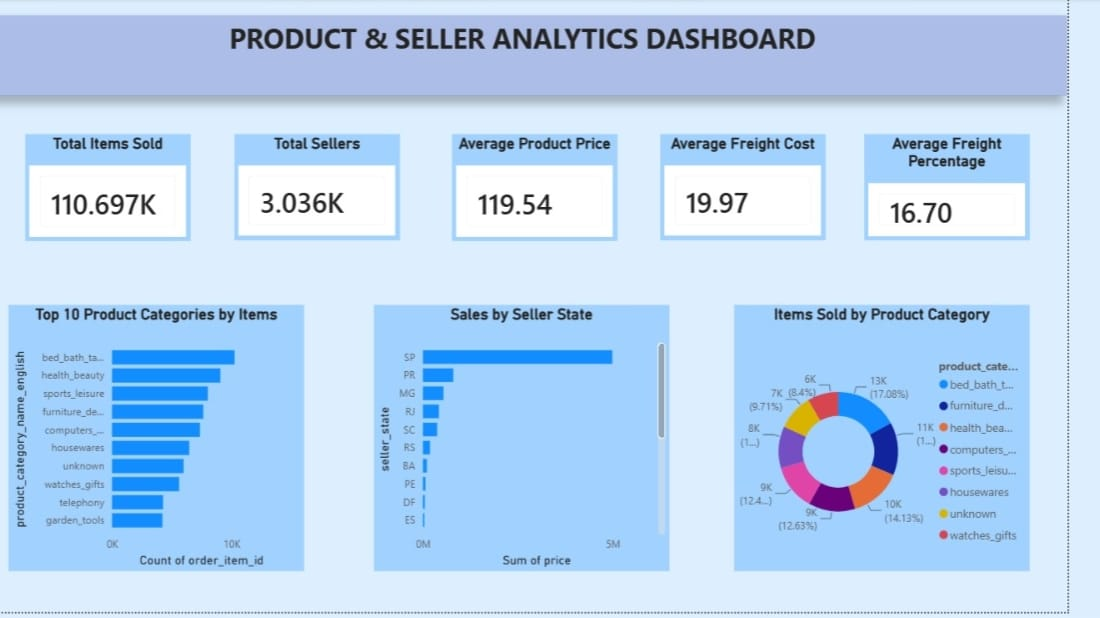

This screenshot's page, from the dashboard's own definition file:
{"tool":"powerbi","page":{"name":"Page 3","canvas":[1280,720],"ordinal":2},"visuals":[{"type":"cardVisual","title":"Total Items Sold","fields":{"Data":["CountNonNull(olist_master_dataset.order_item_id)"]},"box":[56.3,159,194.4,126],"z":0},{"type":"cardVisual","title":"Average Freight Percentage","fields":{"Data":["olist_master_dataset.Freight Percentage"]},"box":[1041.6,158.5,194.4,124.7],"z":1000},{"type":"cardVisual","title":"Total Sellers","fields":{"Data":["Count(olist_master_dataset.seller_id)"]},"box":[302,159,194.4,124.7],"z":2000},{"type":"cardVisual","title":"Average Freight Cost","fields":{"Data":["Avg(olist_master_dataset.freight_value)"]},"box":[802.2,159,194.4,124.7],"z":3000},{"type":"cardVisual","title":"Average Product Price","fields":{"Data":["Avg(olist_master_dataset.price)"]},"box":[557.6,159,194.4,126],"z":4000},{"type":"clusteredBarChart","title":"Top 10 Product Categories by Items","fields":{"Category":["olist_master_dataset.product_category_name_english"],"Y":["CountNonNull(olist_master_dataset.order_item_id)"]},"box":[36.7,359.5,347.3,313],"z":5000},{"type":"clusteredBarChart","title":"Sales by Seller State","fields":{"Category":["olist_master_dataset.seller_state"],"Y":["Sum(olist_master_dataset.price)"]},"box":[465.9,359.5,347.3,313],"z":6000},{"type":"donutChart","title":"Items Sold by Product Category","fields":{"Category":["olist_master_dataset.product_category_name_english"],"Y":["Sum(olist_master_dataset.order_item_id)"]},"box":[889,359.5,347.3,313],"z":7000},{"type":"textbox","box":[0,19.4,1280.3,94.2],"z":8000}]}

Visuals, with their boxes in screenshot pixels (x1, y1, x2, y2), scaled from the page's 1280x720 canvas onto the 1100x618 screenshot:
"Total Items Sold" cardVisual: 48/136/215/245
"Average Freight Percentage" cardVisual: 895/136/1062/243
"Total Sellers" cardVisual: 260/136/427/244
"Average Freight Cost" cardVisual: 689/136/856/244
"Average Product Price" cardVisual: 479/136/646/245
"Top 10 Product Categories by Items" clusteredBarChart: 32/309/330/577
"Sales by Seller State" clusteredBarChart: 400/309/699/577
"Items Sold by Product Category" donutChart: 764/309/1062/577
textbox: 0/17/1099/98
